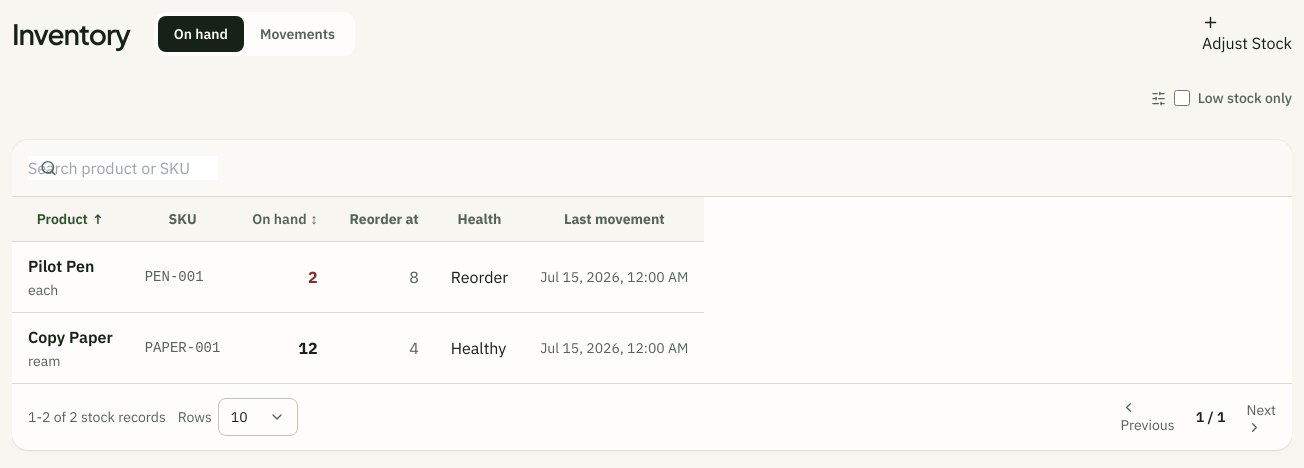
Test: InventoryPage › requests low-stock rows from the API so pagination metadata stays accurate
expect the text "Copy Paper" is shown: met, box [28,325,113,349]
expect the text "2" is shown: met, box [236,242,334,312]
What coordinates should you click on to do the following:
click the checkbox labelled "Low stock only"
I would click on:
 (1182, 98)
Its box is [1174,90,1190,106].
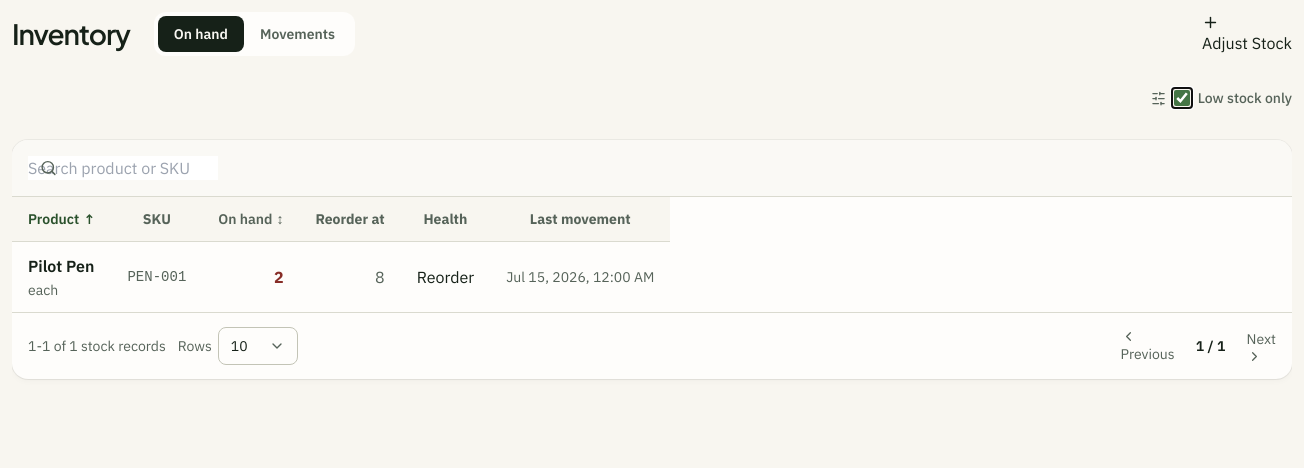
expect the text "Copy Paper" is gone: met
expect the text "1-1 of 1 stock records" is shown: met, box [28,336,166,356]
